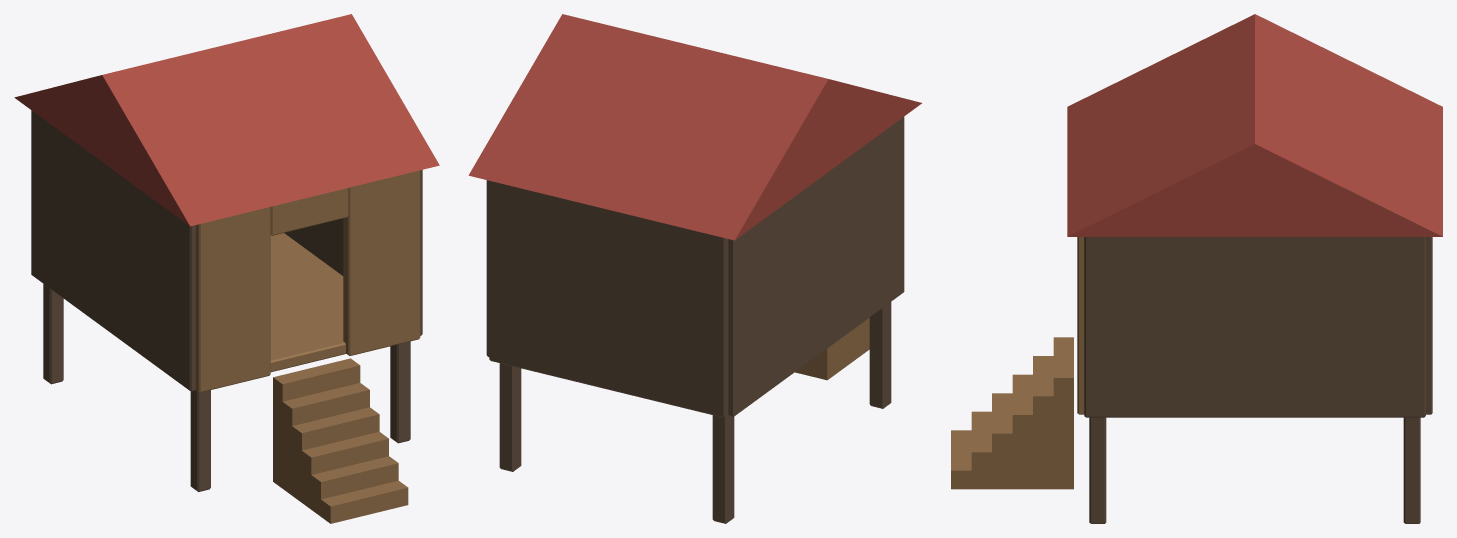
The model's file is harbor-stilt-house.lod0.glb.
3 views of the same model, side by side, from view 1: azimuth 30°, elevation 25°; view 2: azimuth 150°, elevation 25°; view 3: azimuth 270°, elevation 25° (orthographic). The views are drawn at different scales.
Visible parts, largest first — view 1: harbor-stilt-house__body, harbor-stilt-house__roof, harbor-stilt-house__front-wall; view 2: harbor-stilt-house__body, harbor-stilt-house__roof; view 3: harbor-stilt-house__body, harbor-stilt-house__roof, harbor-stilt-house__front-wall.
Boxes of the visible parts, x1,y1,x2,y2 form: harbor-stilt-house__body: [31, 110, 422, 523]; harbor-stilt-house__roof: [14, 14, 439, 226]; harbor-stilt-house__front-wall: [196, 170, 420, 392]; harbor-stilt-house__body: [486, 117, 904, 523]; harbor-stilt-house__roof: [468, 14, 921, 240]; harbor-stilt-house__body: [951, 237, 1432, 523]; harbor-stilt-house__roof: [1067, 14, 1442, 236]; harbor-stilt-house__front-wall: [1077, 237, 1084, 414].
Size of the model in its own units: 4.5 by 6.3 by 7.2.
